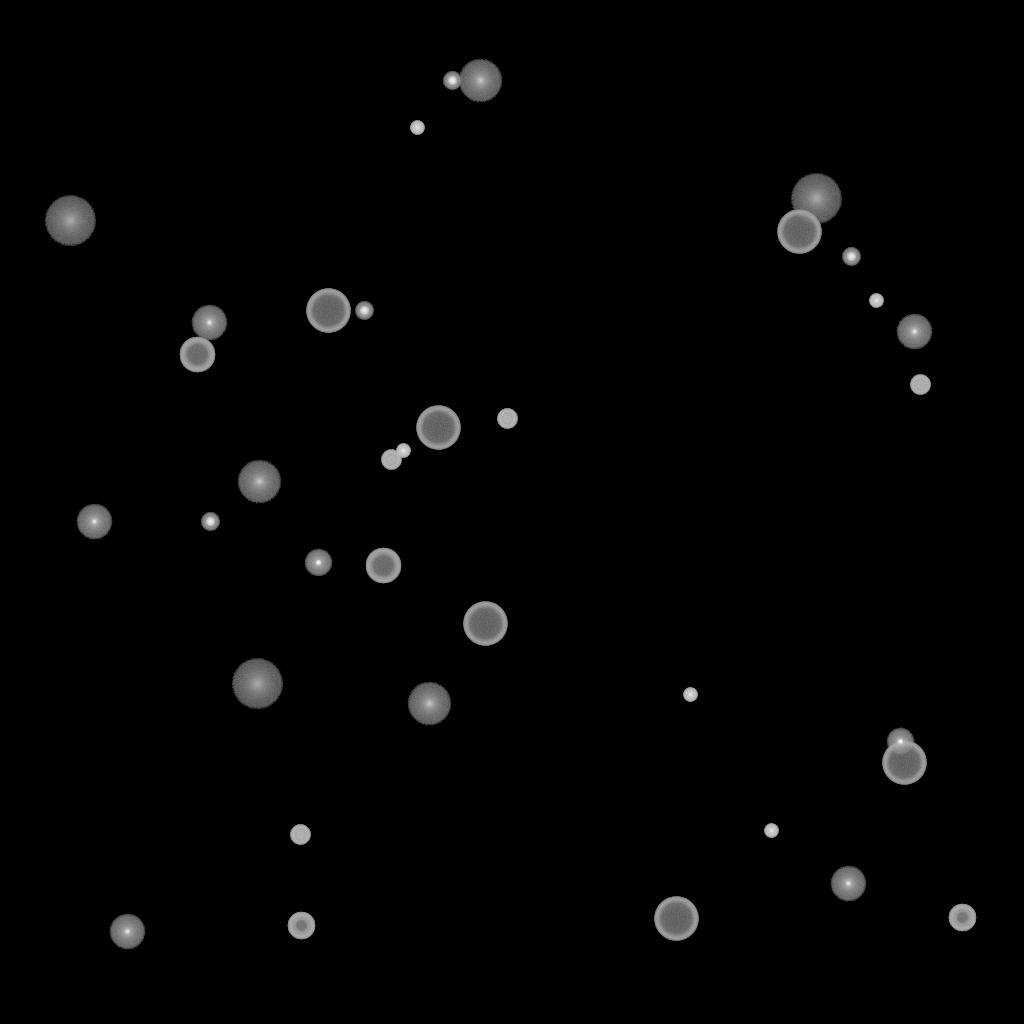depth:-10: (304, 549, 332, 577), (886, 728, 914, 756)
depth:-20: (355, 302, 373, 320), (201, 513, 219, 531), (443, 72, 461, 90), (842, 248, 860, 266)
depth:-30: (683, 688, 697, 702), (410, 121, 424, 135), (764, 824, 778, 838), (396, 444, 410, 458), (869, 294, 883, 308)
depth:-40: (290, 825, 310, 845), (381, 450, 401, 470), (497, 409, 517, 429), (910, 375, 930, 395)
depth:-50: (287, 912, 315, 940), (948, 904, 976, 932)
depth:-60: (179, 337, 215, 373), (365, 548, 401, 584)
depth:-70: (777, 210, 821, 254), (463, 602, 507, 646), (882, 741, 926, 785), (306, 289, 350, 333), (416, 406, 460, 450), (654, 897, 698, 941)
depth:0: (191, 305, 227, 341), (76, 504, 112, 540), (109, 914, 145, 950), (896, 314, 932, 350), (830, 866, 866, 902)
depth:10: (237, 460, 281, 504), (458, 59, 502, 103), (407, 682, 451, 726)
depth:20: (44, 196, 96, 246), (790, 174, 842, 224), (231, 659, 283, 709)
